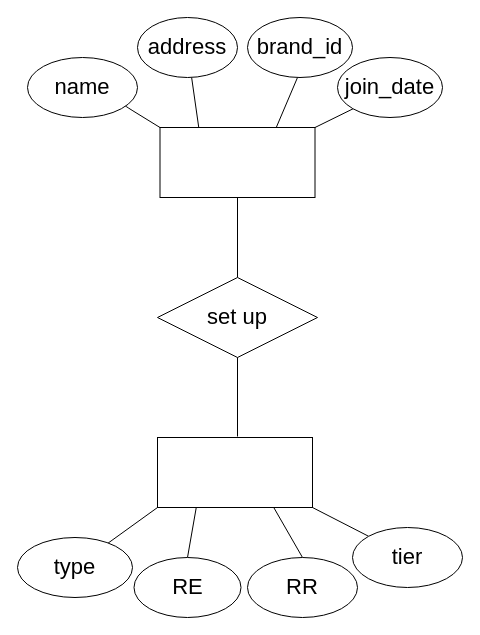
This 480x635 diagram has some shape labels left out. Each missing label, with the centre of its shape:
"brand" belongs at (237,162).
"loyalty program" belongs at (234,472).
